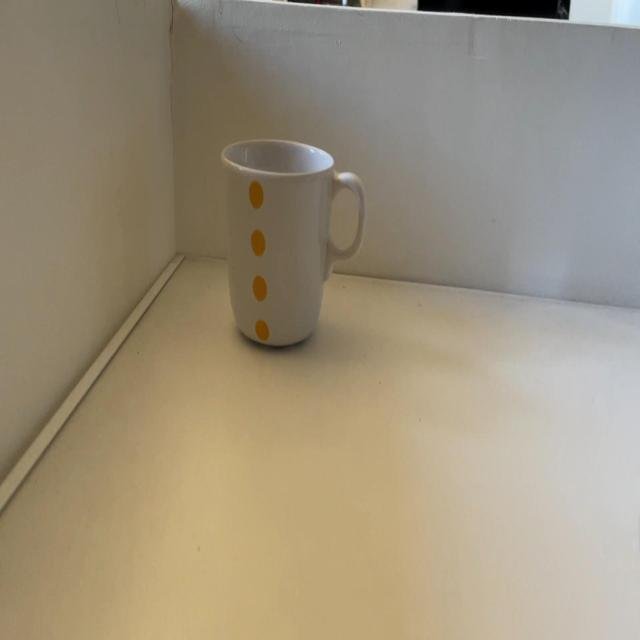cup: (222, 140, 368, 349)
